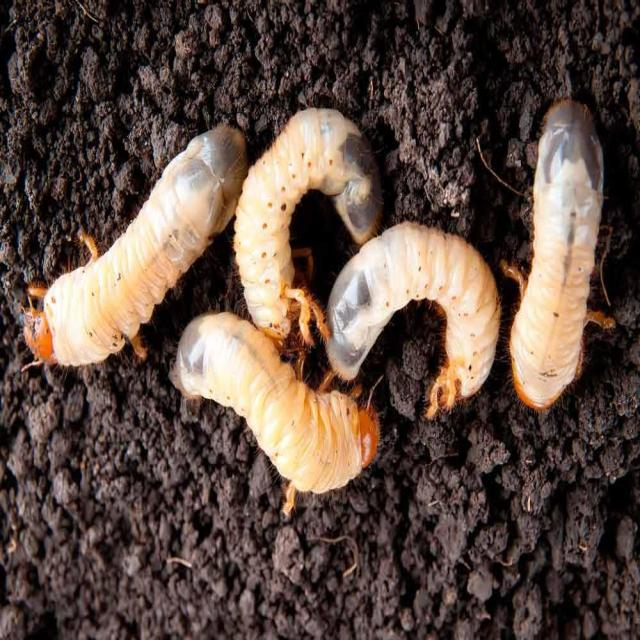grub: (24, 112, 242, 412), (163, 313, 383, 502), (233, 99, 374, 341), (313, 226, 498, 403), (515, 88, 607, 417)
